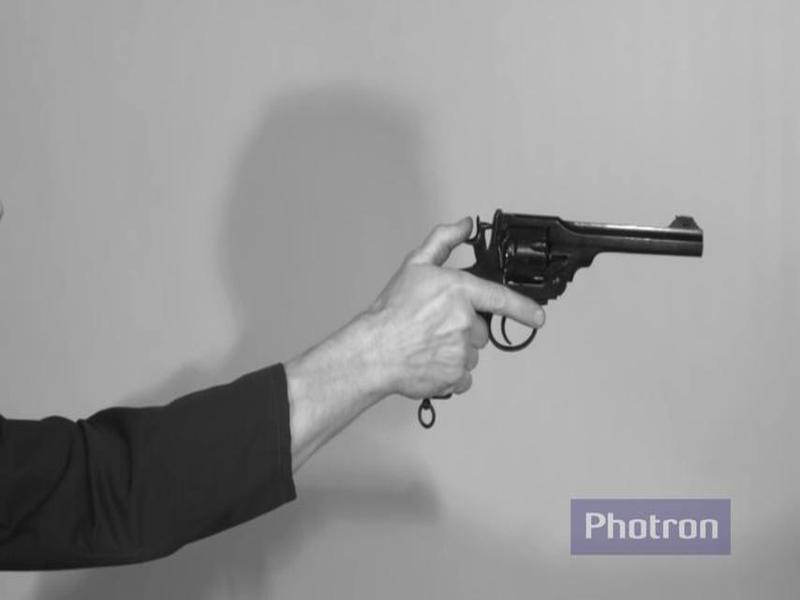Revolver: (439, 196, 755, 374)
